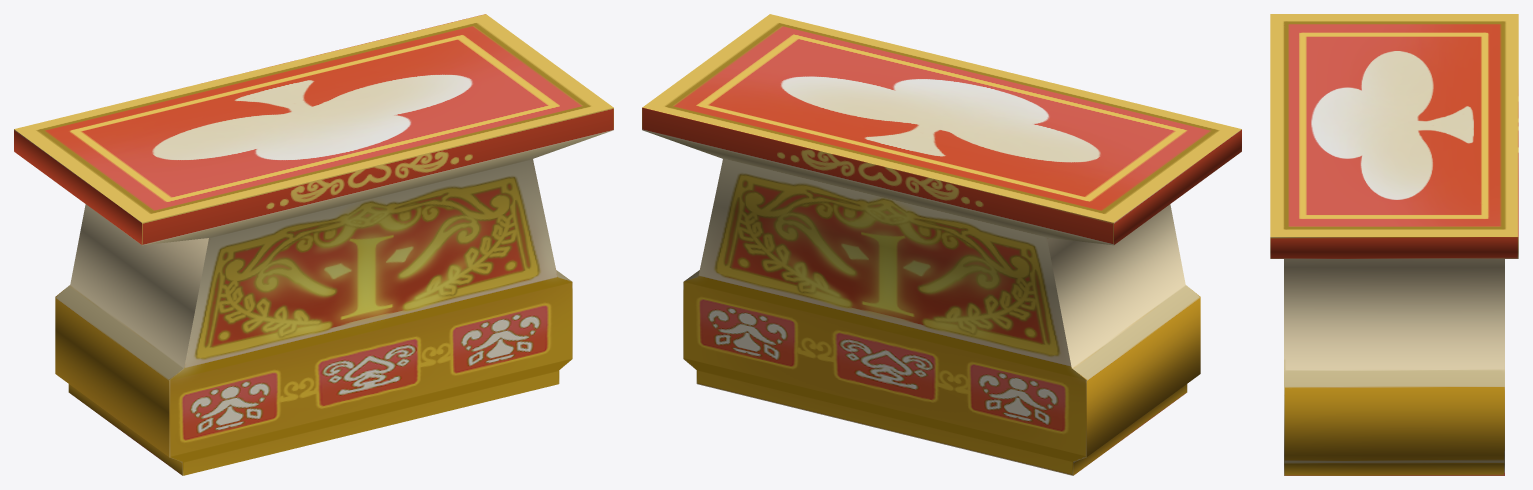
File: LAward1.fbx
3 views of the same model, side by side, from view 1: azimuth 30°, elevation 25°; view 2: azimuth 150°, elevation 25°; view 3: azimuth 270°, elevation 25° (orthographic). The views are drawn at different scales.
Parts seen in each view (by area): view 1: Award1; view 2: Award1; view 3: Award1.
Boxes of the visible parts, left/top/right/bottom form: Award1: left=14, top=14, right=613, bottom=475; Award1: left=642, top=14, right=1241, bottom=475; Award1: left=1270, top=14, right=1518, bottom=475.
Size of the model in its own units: 137 by 74.84 by 64.34.
